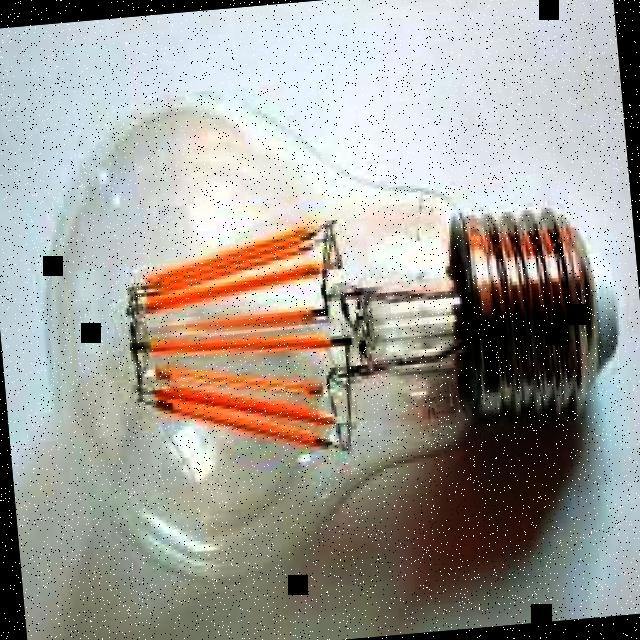light_bulb: (11, 36, 640, 615)
